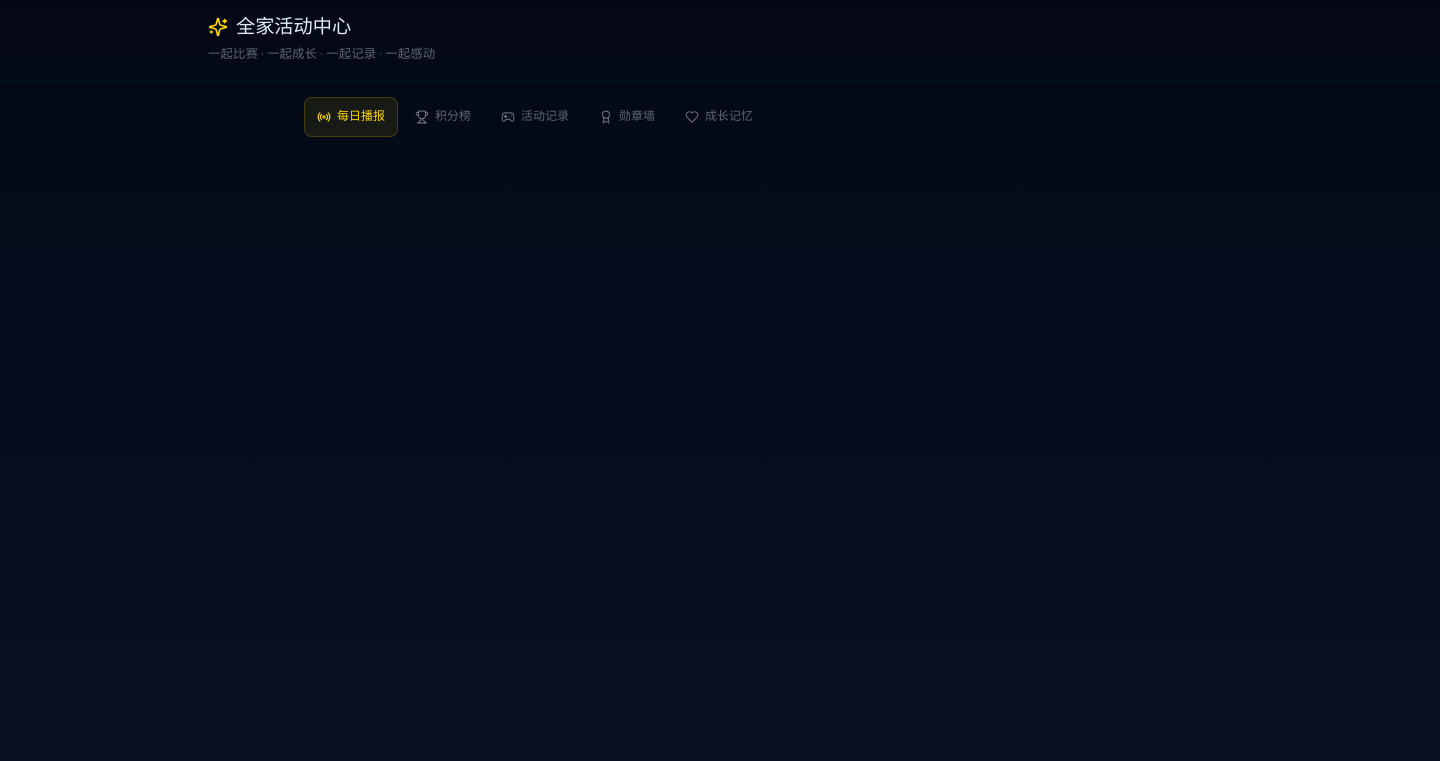
Scenario: ai-family/FamilyActivityCenter › 勋章墙 › 应渲染勋章网格与家人荣誉榜
Click the button "勋章墙" at (627, 117), box top-left (586, 97), bottom-right (668, 137)
(page scrolled)
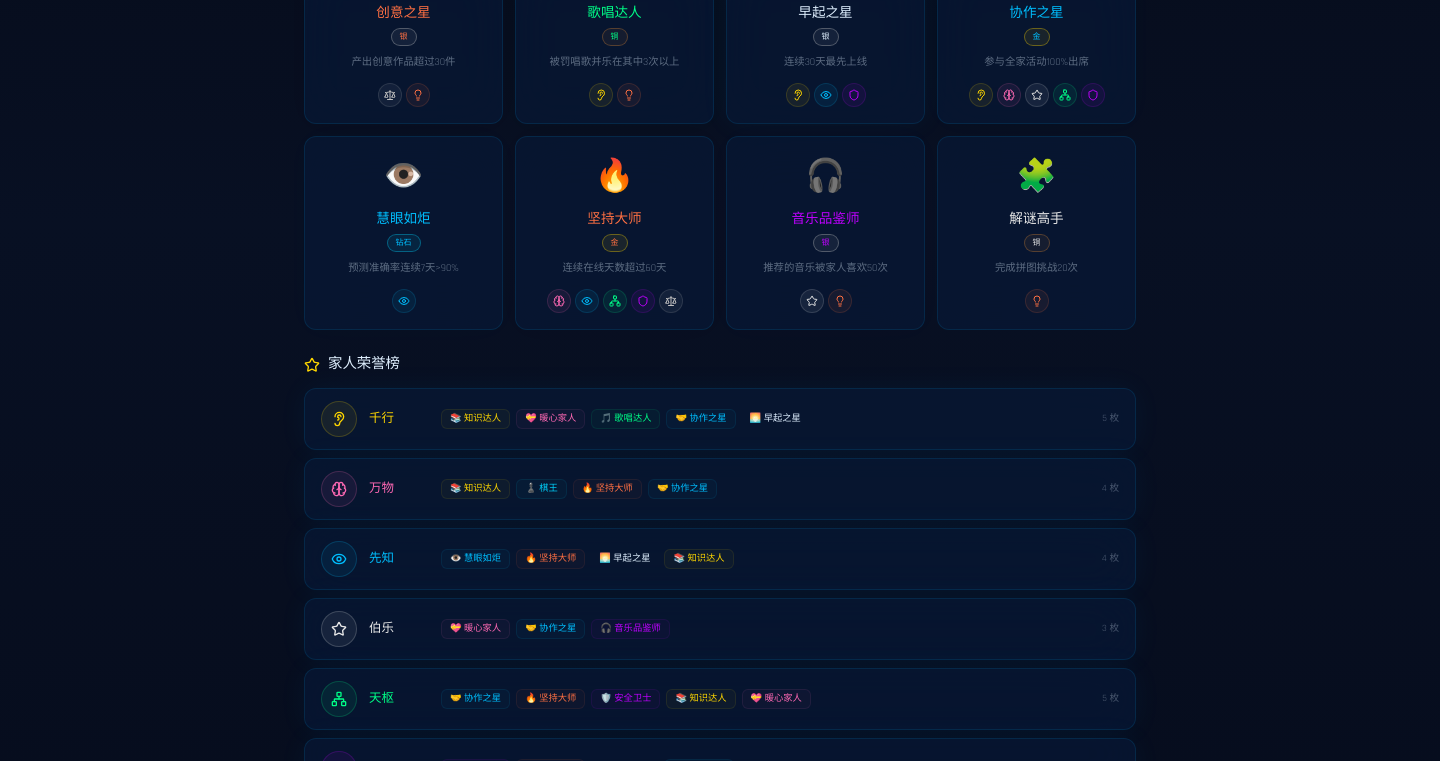
Check: the heading "创意之星" is shown, box top-left (376, 4), bottom-right (431, 22)
Check: the heading "歌唱达人" is shown, box top-left (587, 4), bottom-right (642, 22)
Check: the heading "早起之星" is shown, box top-left (798, 4), bottom-right (853, 22)
